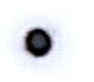cancer: (8, 11, 73, 74)
